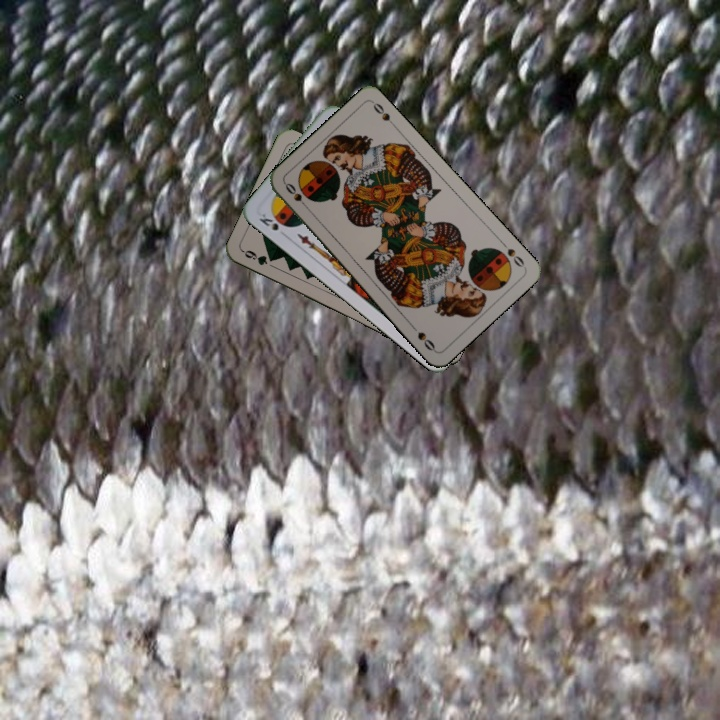G9: (239, 246, 277, 270)
SK: (255, 209, 281, 233)
SO: (281, 179, 312, 212), (497, 237, 527, 270)
